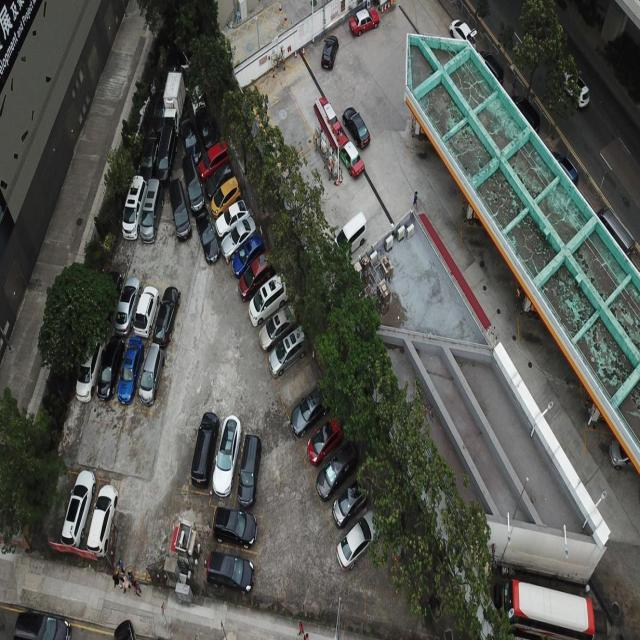p3rson: (111, 568, 123, 588), (132, 576, 141, 599), (119, 576, 131, 592), (411, 187, 418, 214), (116, 560, 124, 574), (297, 621, 303, 636), (303, 629, 309, 640)
